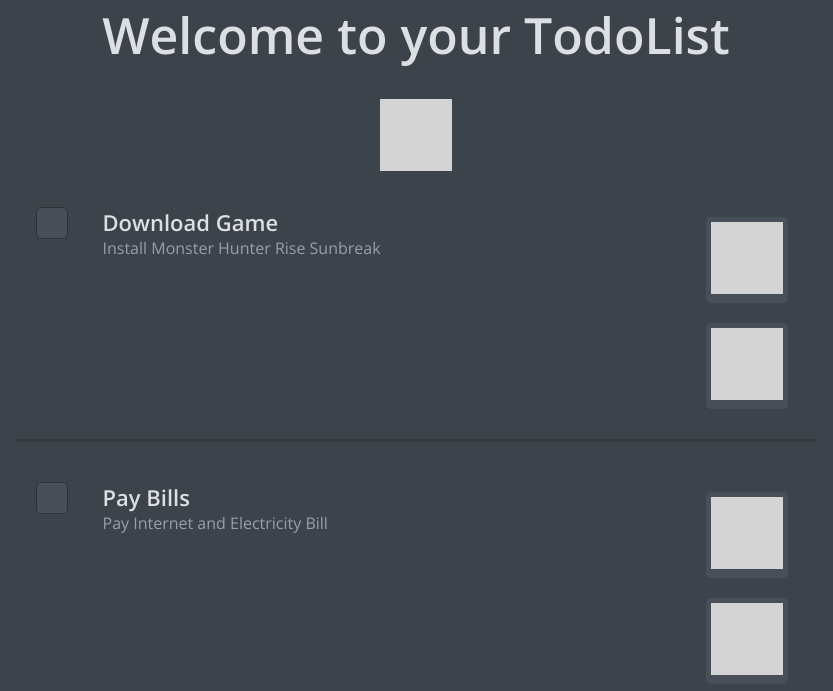
Test: TodoList › should show warning if title or description field is empty and the create form is submitted
Click the button with test id "show-form-button" at (416, 123), box [380, 99, 452, 147]
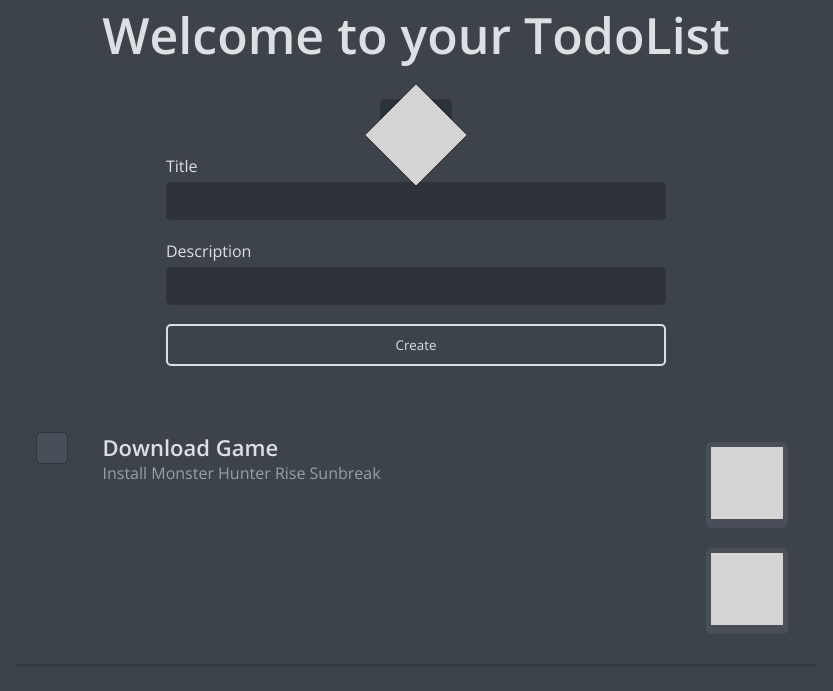
Expected: the field labelled "Title" is shown, [166, 182, 666, 220]
Click the button with test id "submit-form-button" at (416, 345), box [166, 324, 666, 366]
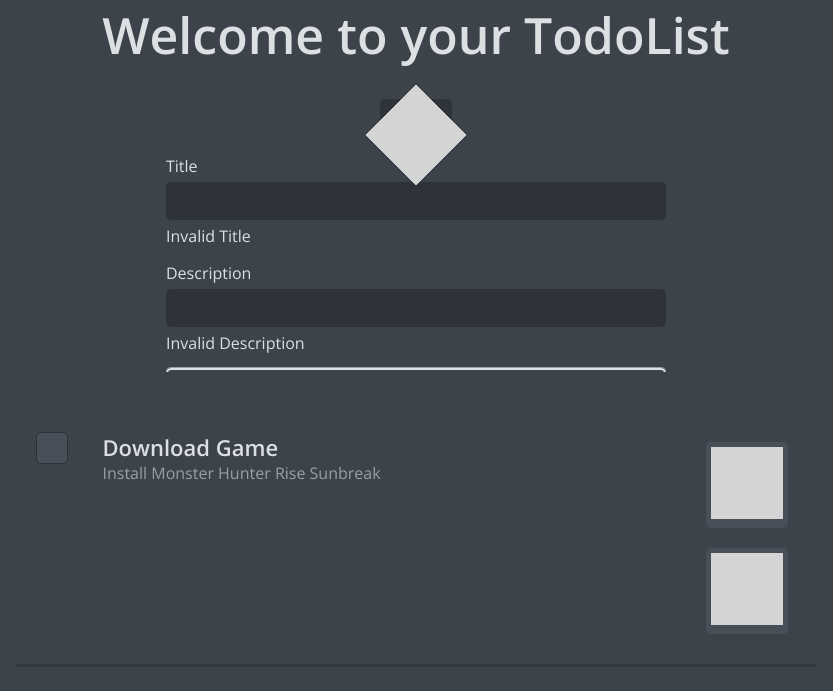
Now the text "Invalid Title" is shown, box [166, 224, 251, 246]
Now the text "Invalid Description" is shown, box [166, 332, 305, 354]
